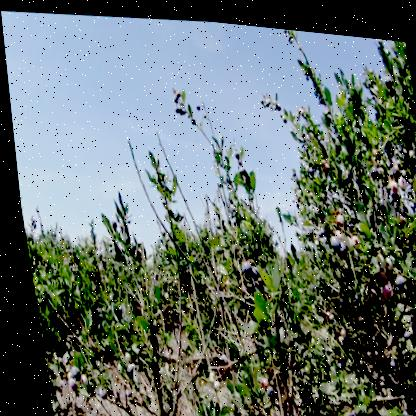mature: (234, 255, 250, 280), (61, 363, 77, 379), (367, 156, 380, 174), (331, 238, 343, 253), (326, 231, 337, 247), (391, 266, 401, 282)
young: (372, 244, 388, 260), (395, 167, 406, 185), (347, 228, 358, 243), (389, 172, 396, 187)
